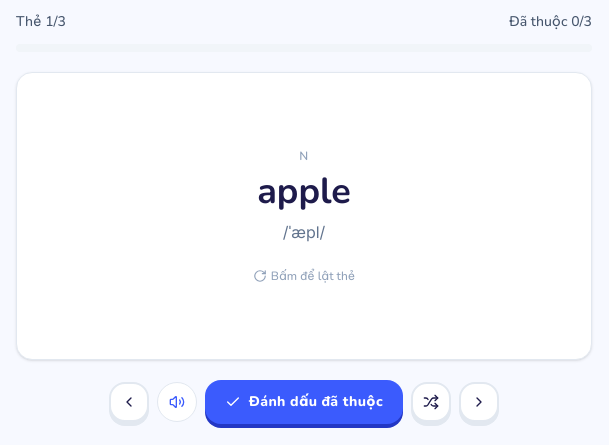
Scenario: Flashcards › chuyển thẻ tới/lui và quay vòng ở hai đầu
Step 1. Click the button named "Thẻ tiếp theo" → (479, 402), box 459,382 -> 499,422
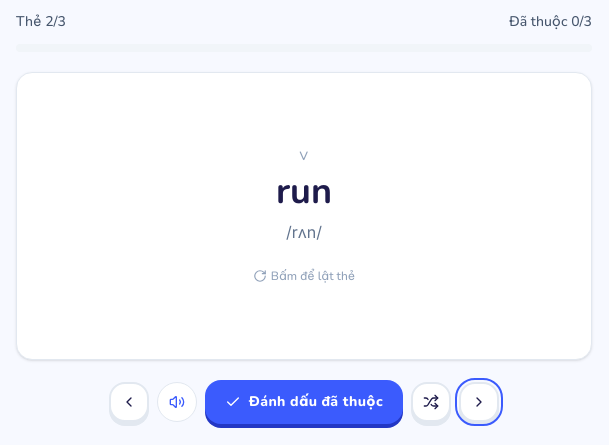
expect the text "Thẻ 2/3" is shown: met, box 16,12 -> 66,32
Step 2. Click the button named "Thẻ trước" → (129, 402), box 109,382 -> 149,422
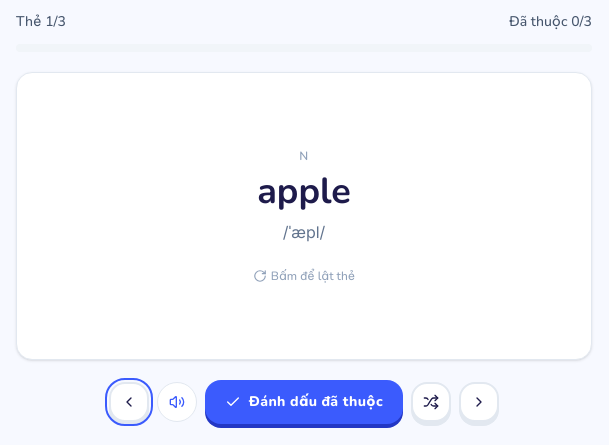
Step 3. Click the button named "Thẻ trước" → (129, 402), box 109,382 -> 149,422
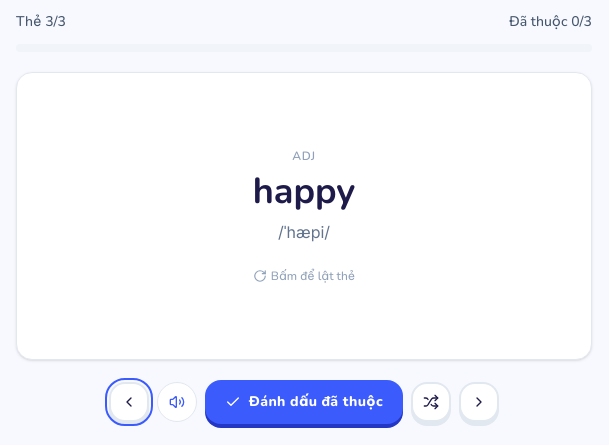
expect the text "Thẻ 3/3" is shown: met, box 16,12 -> 66,32
